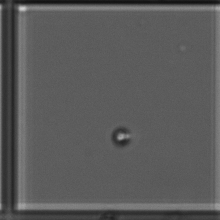Living Cell: (109, 125, 133, 148)
